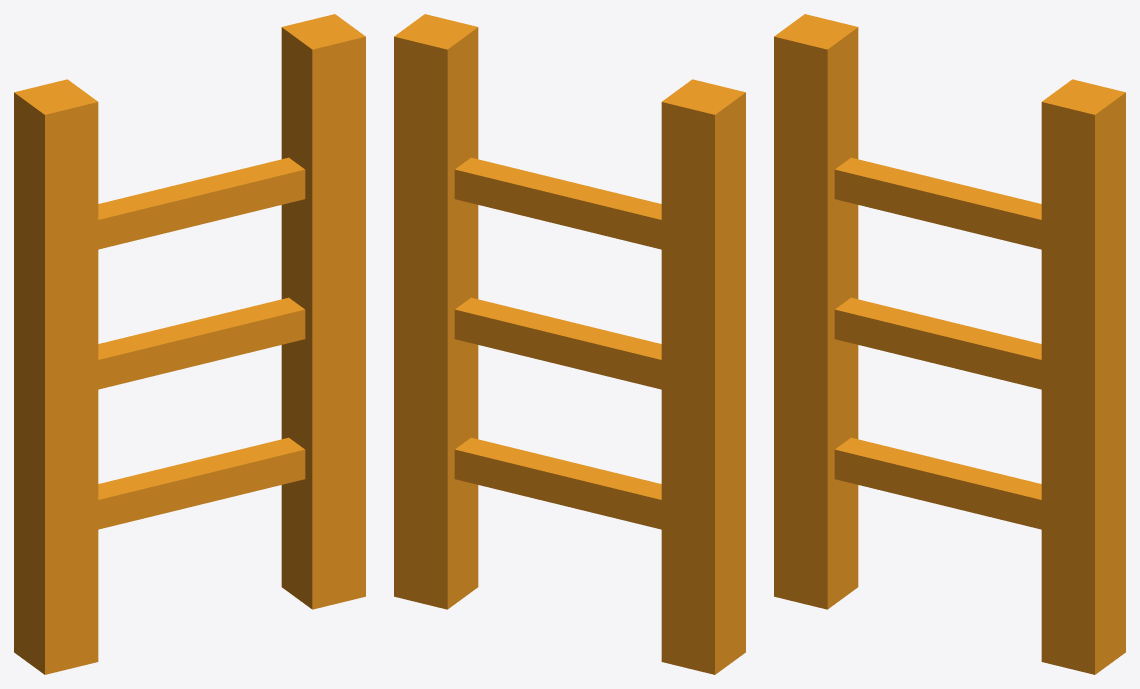
The model's file is SM_Prop_Ladder_1x1_01.fbx.
The picture shows the model from 3 angles, left to right: view 1: azimuth 30°, elevation 25°; view 2: azimuth 150°, elevation 25°; view 3: azimuth 330°, elevation 25°; orthographic projection.
Visible parts, largest first — view 1: SM_Prop_Ladder_1x1_01; view 2: SM_Prop_Ladder_1x1_01; view 3: SM_Prop_Ladder_1x1_01.
Boxes of the visible parts, x1,y1,x2,y2 form: SM_Prop_Ladder_1x1_01: [14, 14, 365, 674]; SM_Prop_Ladder_1x1_01: [394, 14, 745, 674]; SM_Prop_Ladder_1x1_01: [774, 14, 1125, 674].
Bounding box in the file's own units: 60 × 100 × 10.
